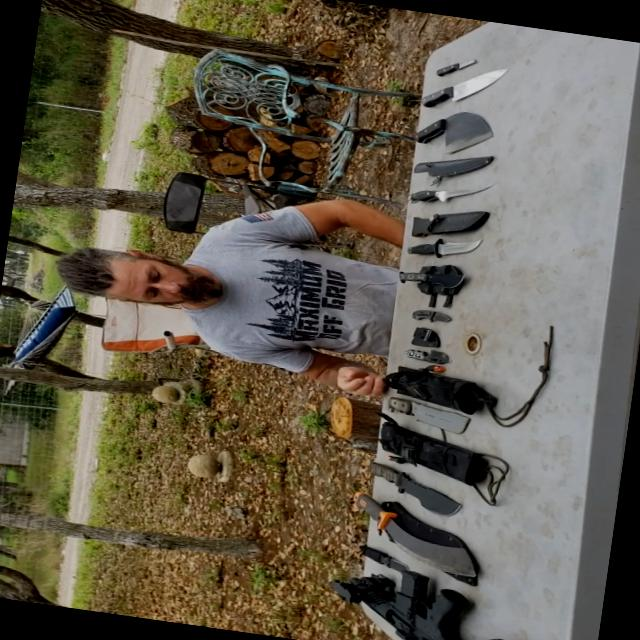knife: (349, 488, 496, 582), (407, 54, 529, 122), (395, 98, 504, 164), (346, 452, 458, 516), (372, 381, 478, 436), (411, 172, 498, 222), (393, 226, 496, 268), (389, 260, 478, 300), (398, 298, 471, 338), (354, 532, 414, 578), (398, 336, 459, 371), (428, 52, 491, 80)
long weapon: (322, 559, 542, 639)
